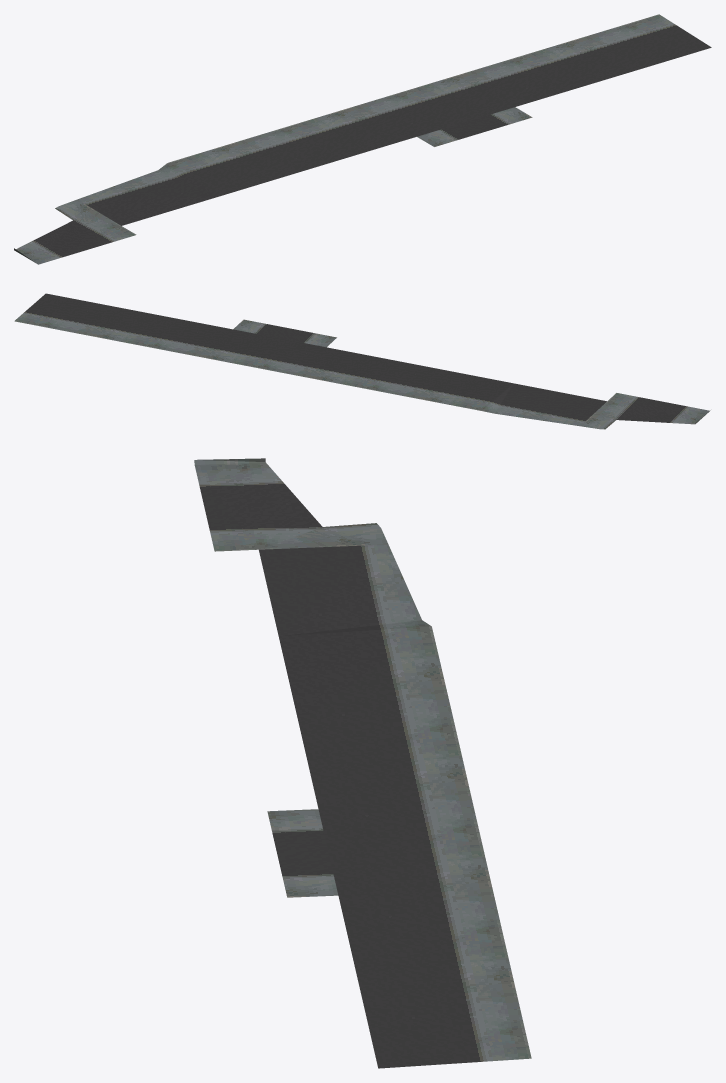
Rendered from lodroadsjm2.obj.
The picture shows the model from 3 angles, top to bottom: view 1: azimuth 30°, elevation 25°; view 2: azimuth 150°, elevation 25°; view 3: azimuth 270°, elevation 25°; orthographic projection. The views are drawn at different scales.
Parts seen in each view (by area): view 1: LODroadsjm2; view 2: LODroadsjm2; view 3: LODroadsjm2.
Boxes of the visible parts, x1,y1,x2,y2 form: LODroadsjm2: [14, 14, 711, 264]; LODroadsjm2: [14, 293, 710, 429]; LODroadsjm2: [194, 458, 531, 1068].
Size of the model in its own units: 140 by 0.5928 by 32.83.
Materials: 1 (1 with a texture image).
